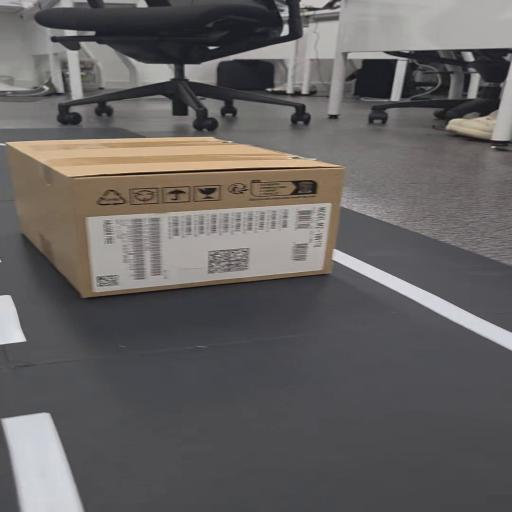Box: (10, 134, 352, 298)
